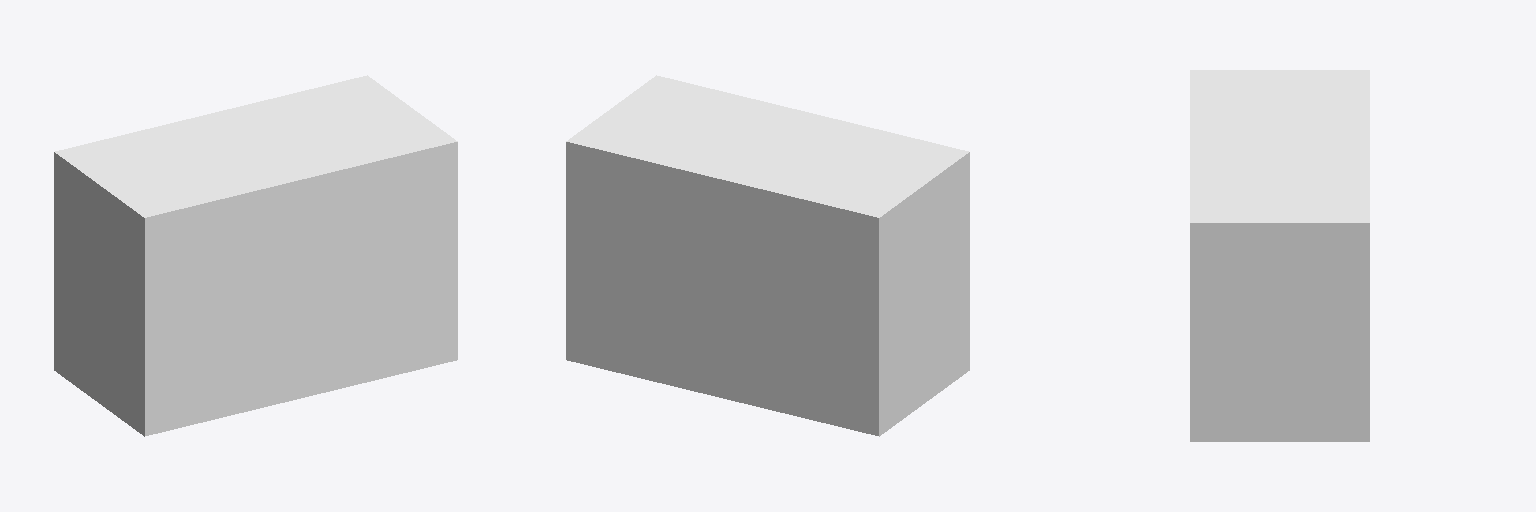
The model's file is Ammo_Crate.obj.
3 renders of one model, left to right at view 1: azimuth 30°, elevation 25°; view 2: azimuth 150°, elevation 25°; view 3: azimuth 270°, elevation 25°, orthographic.
Parts seen in each view (by area): view 1: Ammo_Crate; view 2: Ammo_Crate; view 3: Ammo_Crate.
Part boxes in pixels (x1,y1,x2,y2): Ammo_Crate: (54, 75, 457, 436); Ammo_Crate: (566, 75, 969, 436); Ammo_Crate: (1190, 70, 1369, 441).
Bounding box in the file's own units: 12 × 8 × 6.